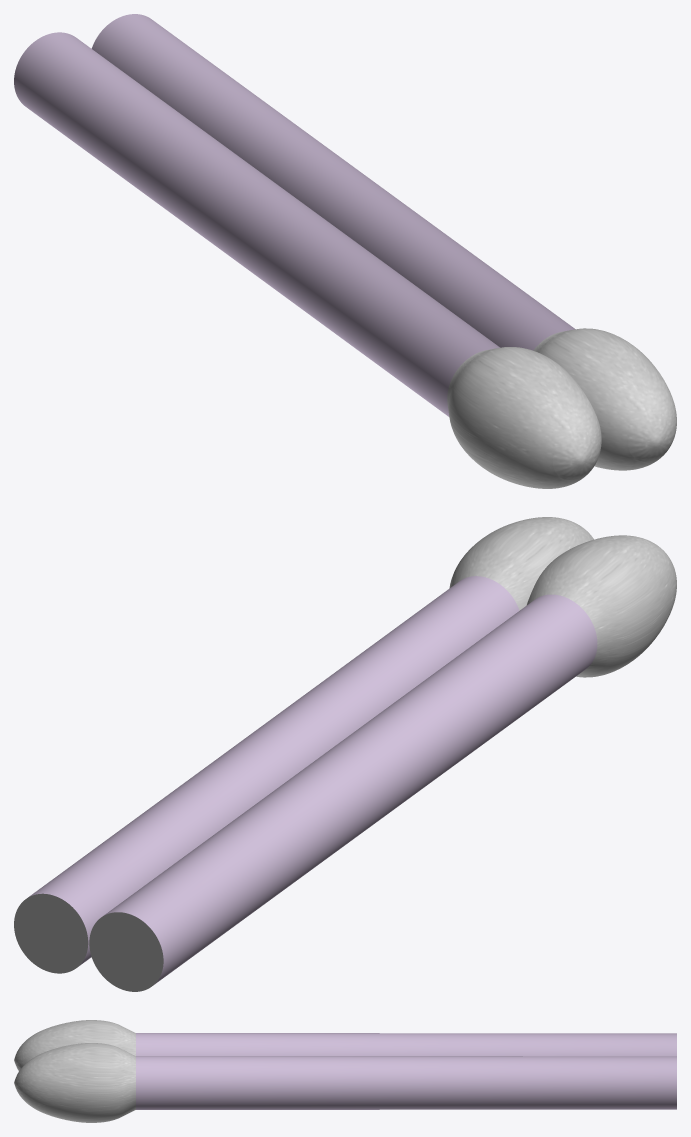
Rendered from Adventurer Ear Bud Pulley.fbx.
3 views of the same model, one above another, from view 1: azimuth 30°, elevation 25°; view 2: azimuth 150°, elevation 25°; view 3: azimuth 270°, elevation 25° (orthographic). The views are drawn at different scales.
Parts seen in each view (by area): view 1: Adventurer_Ear_Bud_1_01, Adventurer_Ear_Bud_1_02; view 2: Adventurer_Ear_Bud_1_01, Adventurer_Ear_Bud_1_02; view 3: Adventurer_Ear_Bud_1_02, Adventurer_Ear_Bud_1_01.
Part boxes in pixels (left/top/right/bottom): Adventurer_Ear_Bud_1_01: left=14, top=32, right=601, bottom=488; Adventurer_Ear_Bud_1_02: left=91, top=14, right=676, bottom=470; Adventurer_Ear_Bud_1_01: left=89, top=535, right=676, bottom=991; Adventurer_Ear_Bud_1_02: left=14, top=517, right=593, bottom=973; Adventurer_Ear_Bud_1_02: left=14, top=1043, right=676, bottom=1122; Adventurer_Ear_Bud_1_01: left=14, top=1020, right=676, bottom=1070.
Bounding box in the file's own units: 5.8 × 3.46 × 28.63.
Materials: 3 (1 with a texture image).
